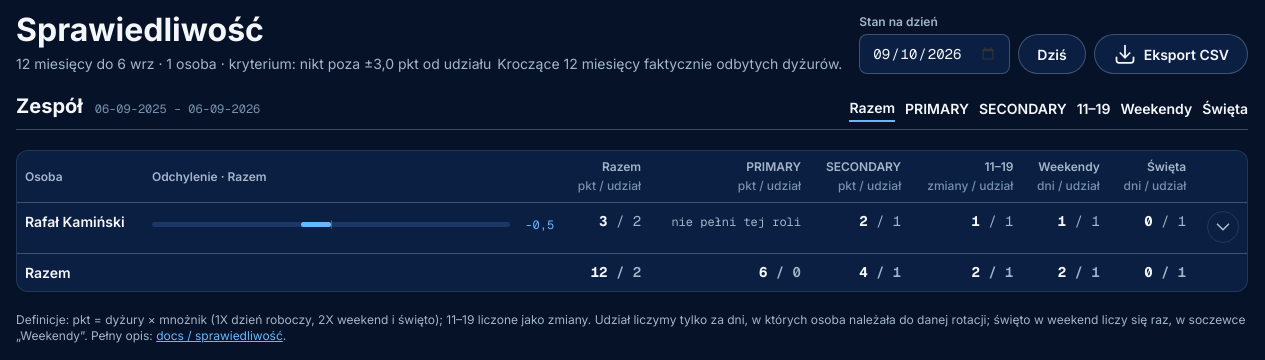
Scenario: FairnessPanel roles a person does not hold › says so instead of reporting 0 / 0 as being in line with the fair share
Expected: the column heading "Rafał Kamiński" is shown, [17,203,144,254]
Expected: the text "nie pełni tej roli" is shown, [671,214,801,230]
The roles they do hold still get a verdict when the bar follows them.
What coordinates should you click on to do the following:
click the button "SECONDARY"
I would click on:
 (1023, 110)
Its box is [979,98,1067,122].
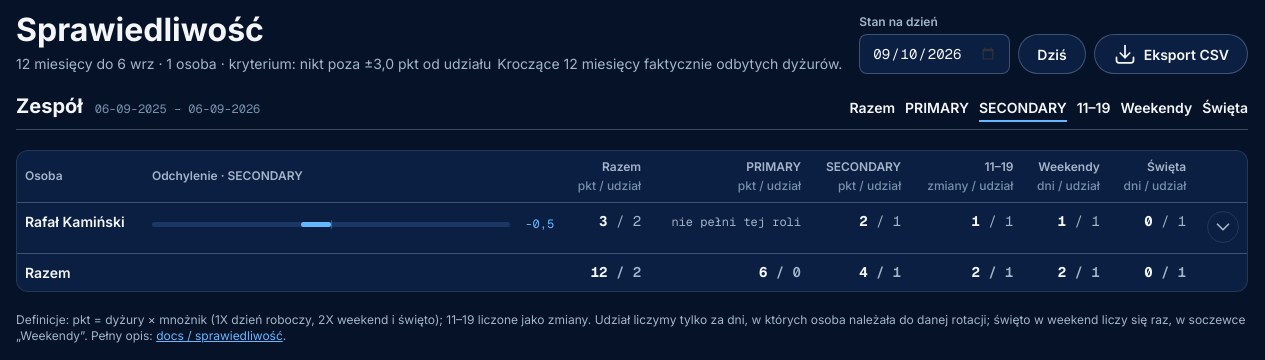
Expected: the picture named "0,5 poniżej udziału" is shown, [152,216,554,232]
What coordinates should you click on to do the following:
click the button "PRIMARY"
I would click on:
 (937, 109)
Its box is [905,97,969,121].
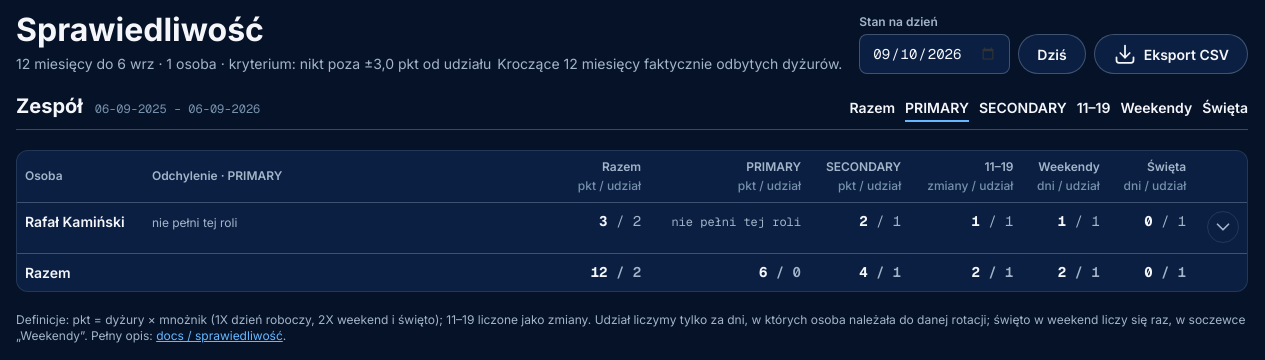
Result: the text "nie pełni tej roli" is shown 2 times at [152,214,237,230]; [671,214,801,230]
